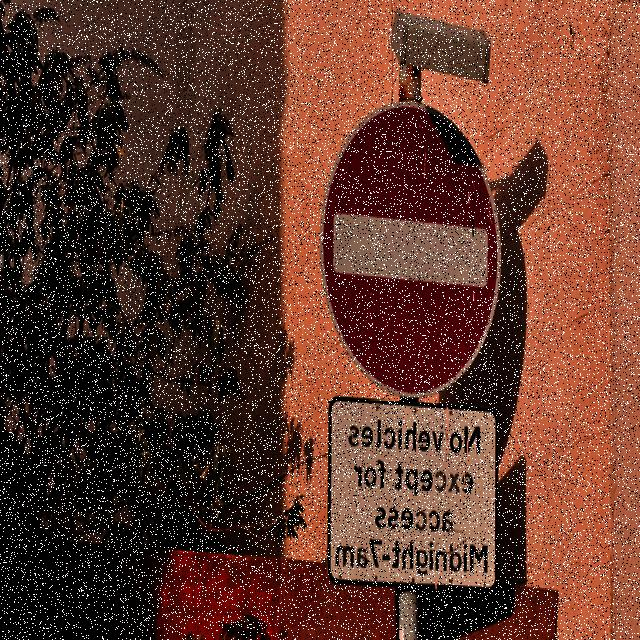no entry: (322, 100, 502, 397)
